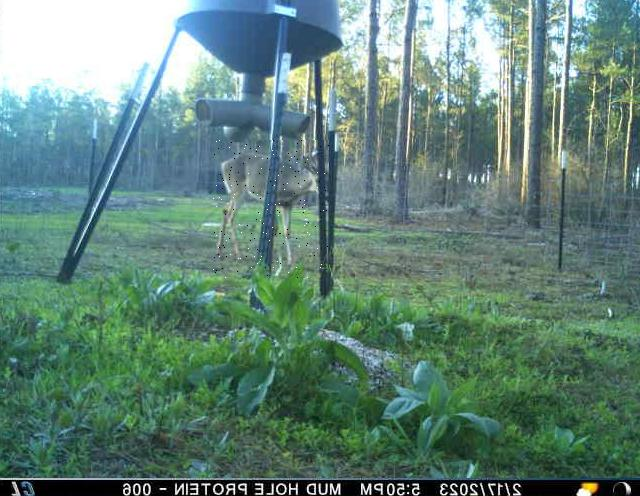Deer: (212, 140, 328, 278)
